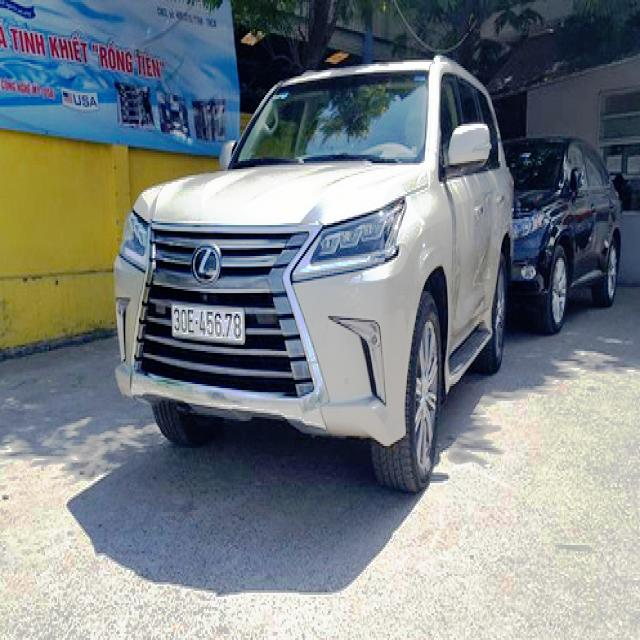license_plate: (174, 304, 245, 344)
